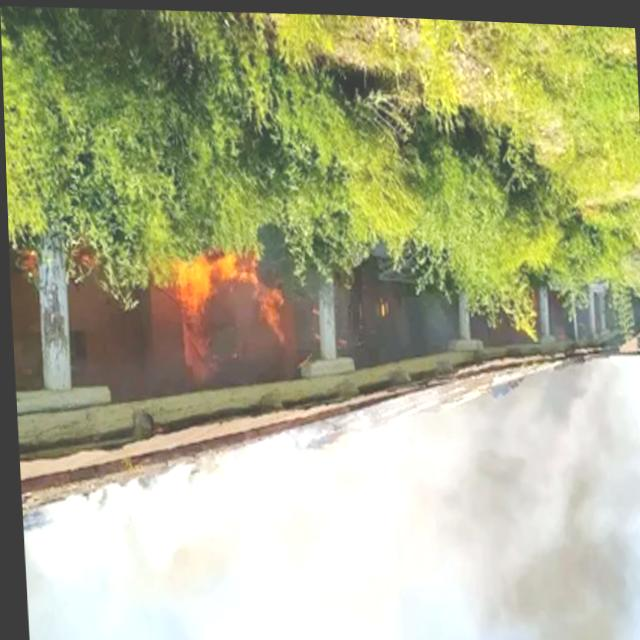Fire: (148, 241, 293, 374)
Smoke: (15, 446, 621, 640)
